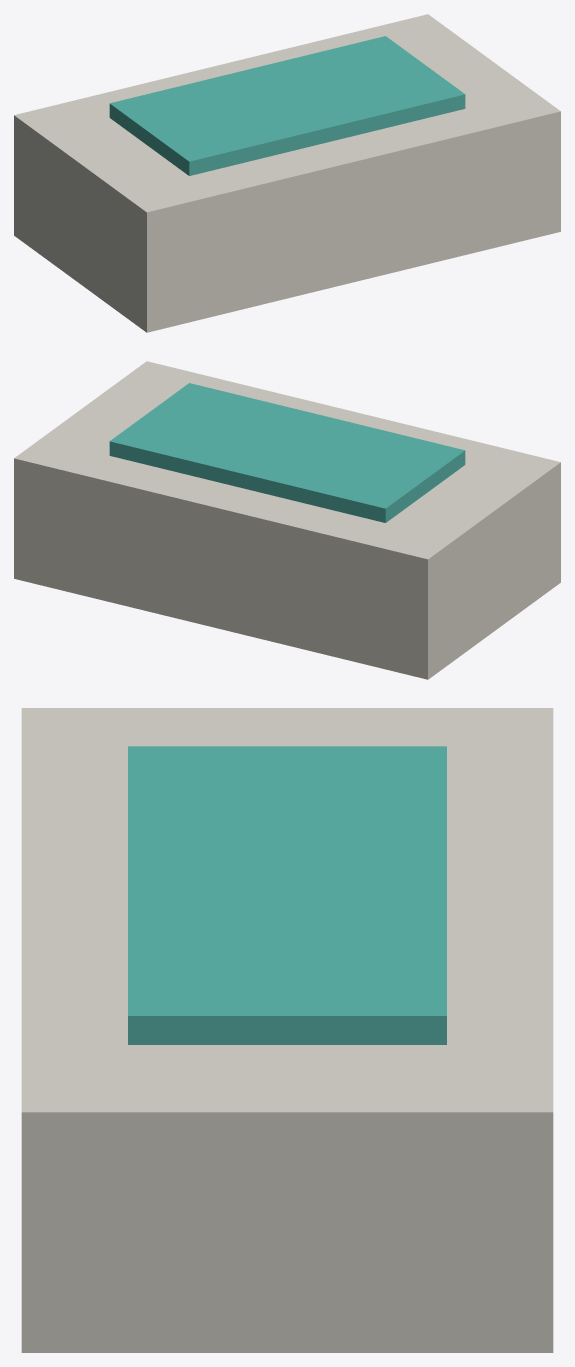
The model's file is supermarket-operations-soap-bar-3d27f42e__26945.glb.
3 renders of one model, top to bottom at view 1: azimuth 30°, elevation 25°; view 2: azimuth 150°, elevation 25°; view 3: azimuth 270°, elevation 25°, orthographic. The views are drawn at different scales.
Parts seen in each view (by area): view 1: soap-bar; view 2: soap-bar; view 3: soap-bar.
Boxes of the visible parts, <box> form: soap-bar: <box>14,14,560,332</box>; soap-bar: <box>14,361,560,679</box>; soap-bar: <box>21,708,553,1352</box>.
Bounding box in the file's own units: 0.09 × 0.028 × 0.05.
